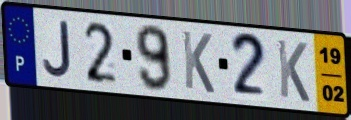2: (227, 31, 272, 105), (82, 20, 119, 87)
9: (133, 22, 174, 94)
J: (41, 19, 74, 80)
K: (180, 28, 217, 96), (275, 37, 312, 105)
